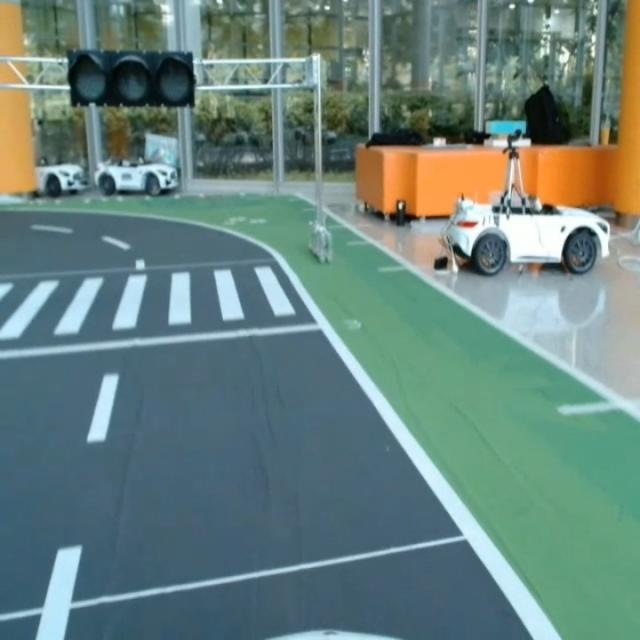traffic-light: (62, 46, 198, 110)
